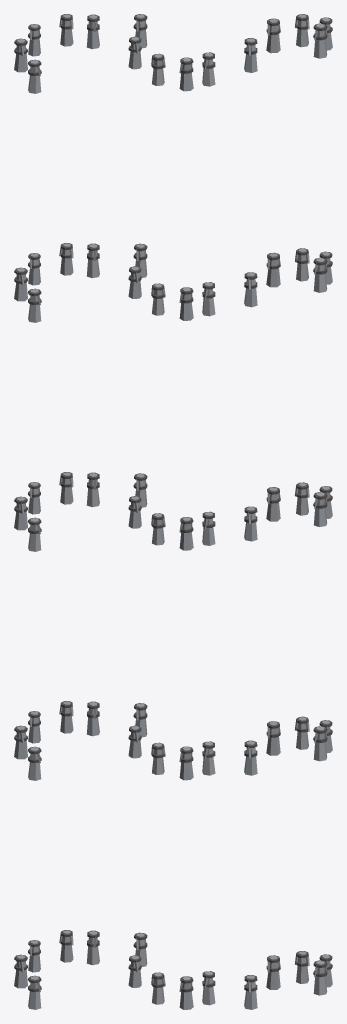
Rendered from Circle9Crowd0.obj.
3 renders of one model, left to right at view 1: azimuth 30°, elevation 25°; view 2: azimuth 150°, elevation 25°; view 3: azimuth 330°, elevation 25°, orthographic. The views are drawn at different scales.
Visible parts, largest first — view 1: Circle9Crowd0; view 2: Circle9Crowd0; view 3: Circle9Crowd0.
Part boxes in pixels (x1=…): Circle9Crowd0: x1=14, y1=14, x2=99, y2=1009; Circle9Crowd0: x1=128, y1=14, x2=215, y2=1009; Circle9Crowd0: x1=244, y1=14, x2=332, y2=1009.
Bounding box in the file's own units: 33.13 × 407 × 24.61.
1 material, 1 textured.
